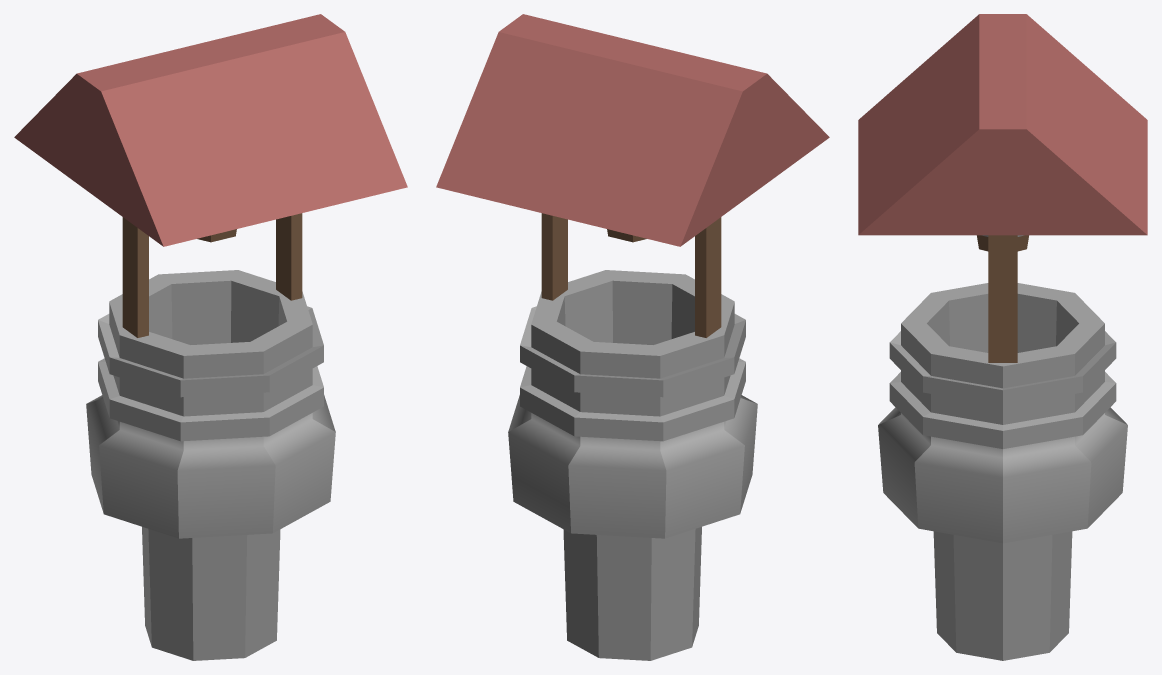
Rendered from BackyardWell.fbx.
The picture shows the model from 3 angles, left to right: view 1: azimuth 30°, elevation 25°; view 2: azimuth 150°, elevation 25°; view 3: azimuth 270°, elevation 25°; orthographic projection. The views are drawn at different scales.
Visible parts, largest first — view 1: pCube336; view 2: pCube336; view 3: pCube336.
Boxes of the visible parts, x1,y1,x2,y2 form: pCube336: [14, 14, 407, 660]; pCube336: [436, 14, 829, 660]; pCube336: [858, 14, 1147, 660].
Size of the model in its own units: 0.9872 by 2.24 by 1.05.
